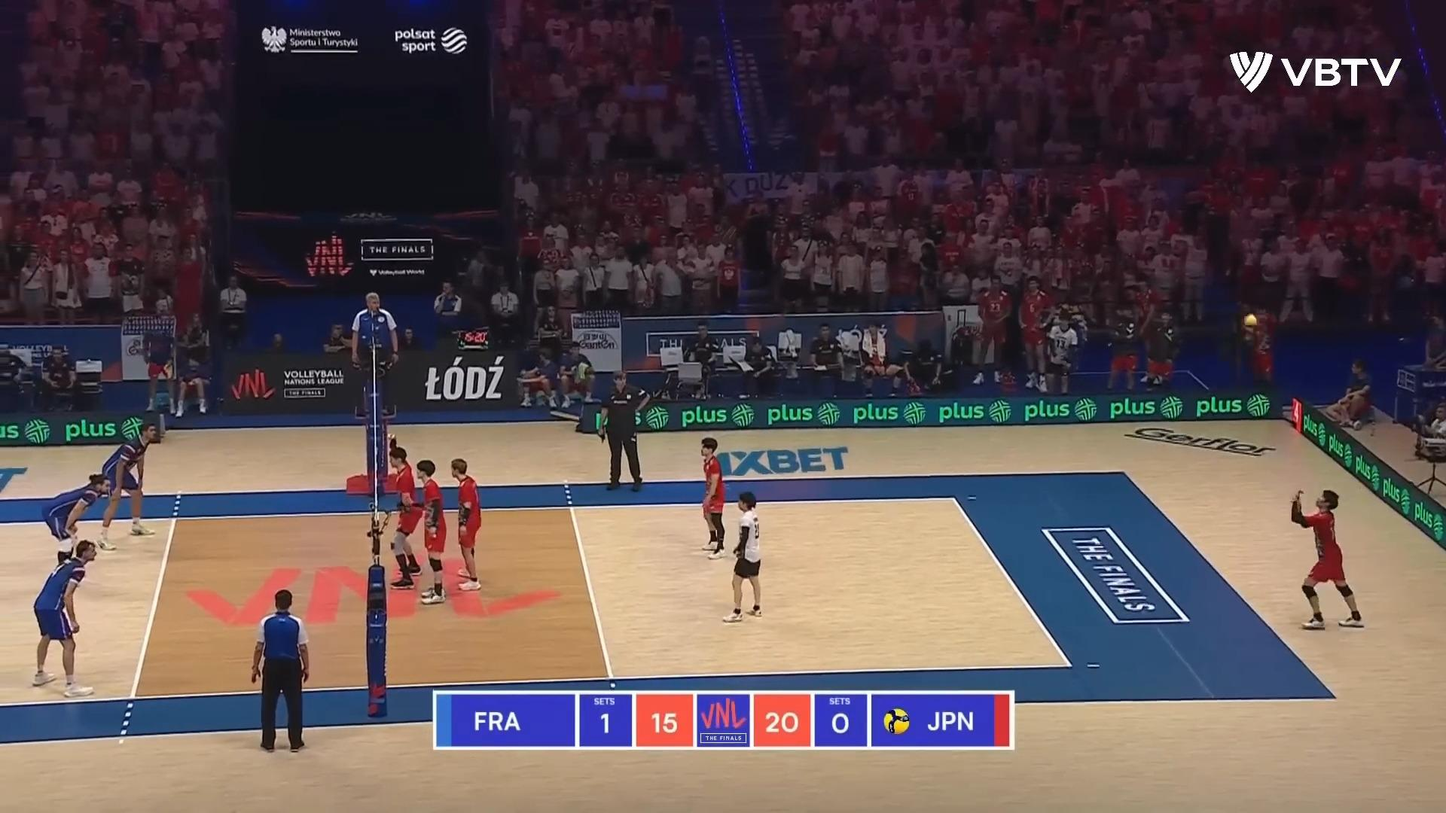ball: (1240, 312, 1261, 332)
